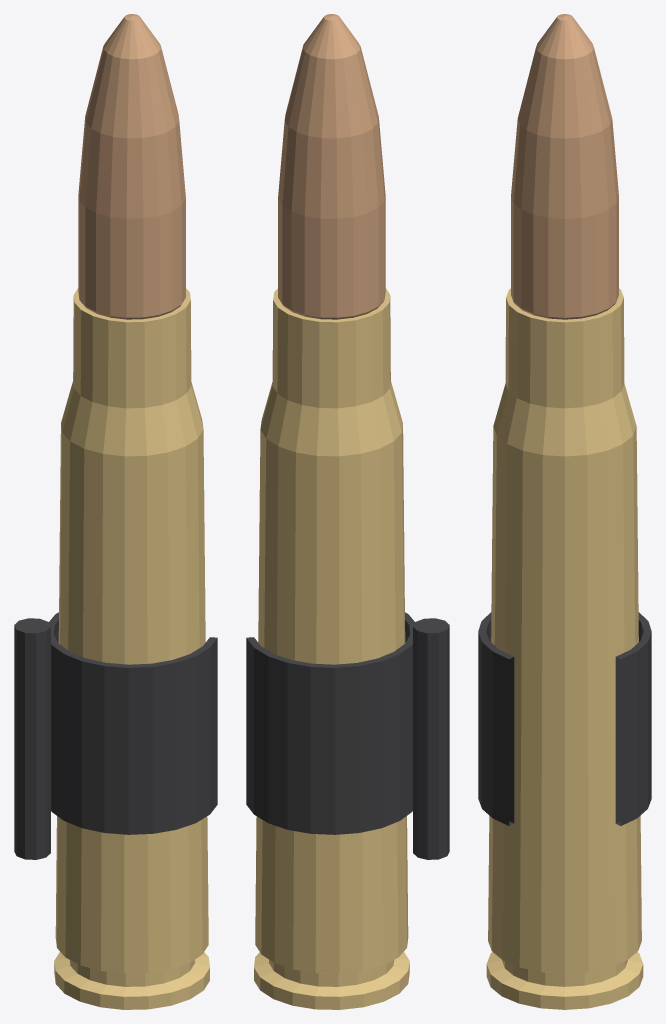
File: SM_MG42_BeltUnit.fbx
3 renders of one model, left to right at view 1: azimuth 30°, elevation 25°; view 2: azimuth 150°, elevation 25°; view 3: azimuth 270°, elevation 25°, orthographic.
Visible parts, largest first — view 1: MG42_BeltUnit; view 2: MG42_BeltUnit; view 3: MG42_BeltUnit.
Part boxes in pixels (x1=…): MG42_BeltUnit: x1=14, y1=14, x2=217, y2=1009; MG42_BeltUnit: x1=246, y1=14, x2=449, y2=1009; MG42_BeltUnit: x1=478, y1=14, x2=651, y2=1009.
Size of the model in its own units: 1.61 by 1.32 by 8.07.
